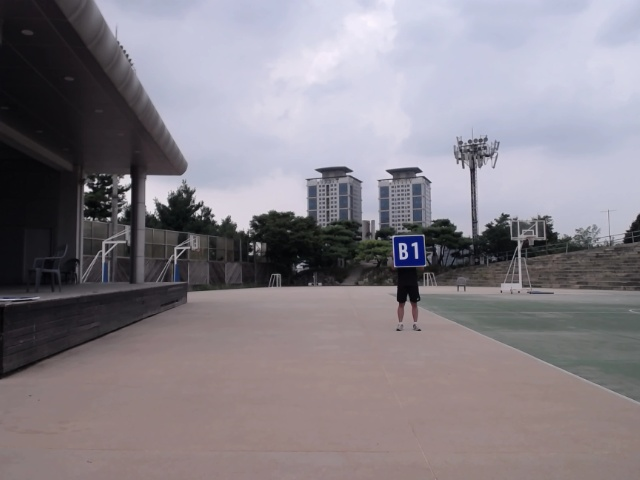delivery_b1: (393, 235, 426, 267)
